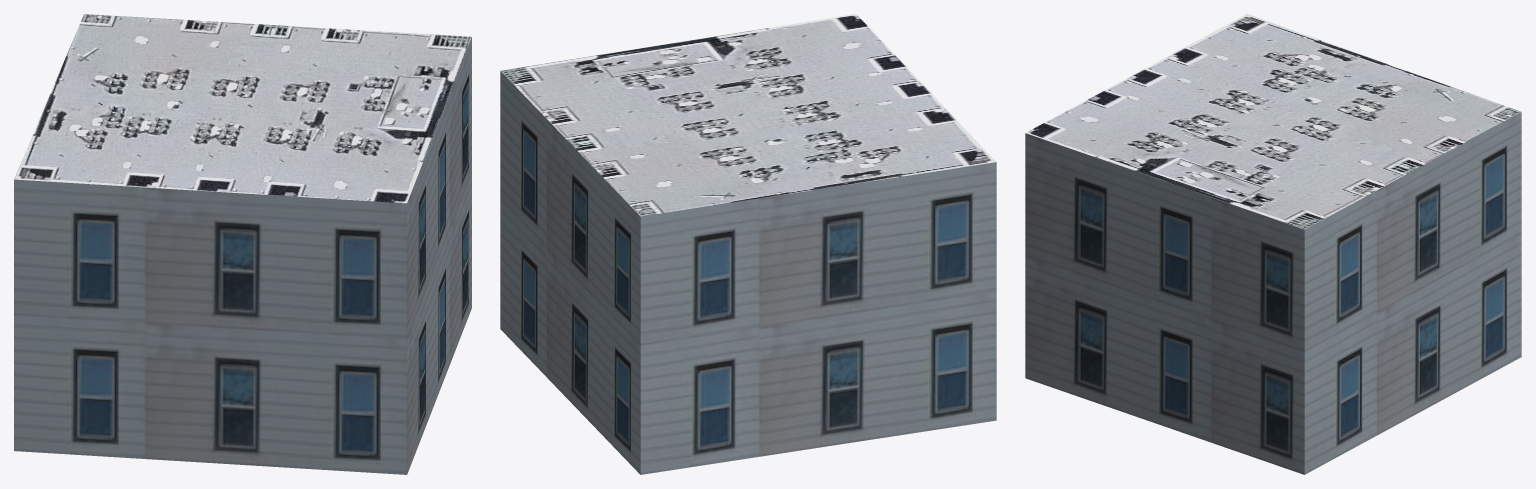
The model's file is ResTex__1168.fbx.
3 views of the same model, side by side, from view 1: azimuth 30°, elevation 25°; view 2: azimuth 150°, elevation 25°; view 3: azimuth 270°, elevation 25° (orthographic). The views are drawn at different scales.
Parts seen in each view (by area): view 1: CityEngineMaterial_18_m, CityEngineMaterial_4_m; view 2: CityEngineMaterial_18_m, CityEngineMaterial_4_m; view 3: CityEngineMaterial_18_m, CityEngineMaterial_4_m.
Part boxes in pixels (x1,y1,x2,y2): CityEngineMaterial_18_m: (14,37,471,474); CityEngineMaterial_4_m: (14,14,471,203); CityEngineMaterial_18_m: (500,71,996,474); CityEngineMaterial_4_m: (500,14,996,216); CityEngineMaterial_18_m: (1025,112,1521,474); CityEngineMaterial_4_m: (1025,14,1521,229).
Size of the model in its own units: 11.32 by 6 by 11.01.
Materials: 2 (2 with a texture image).
